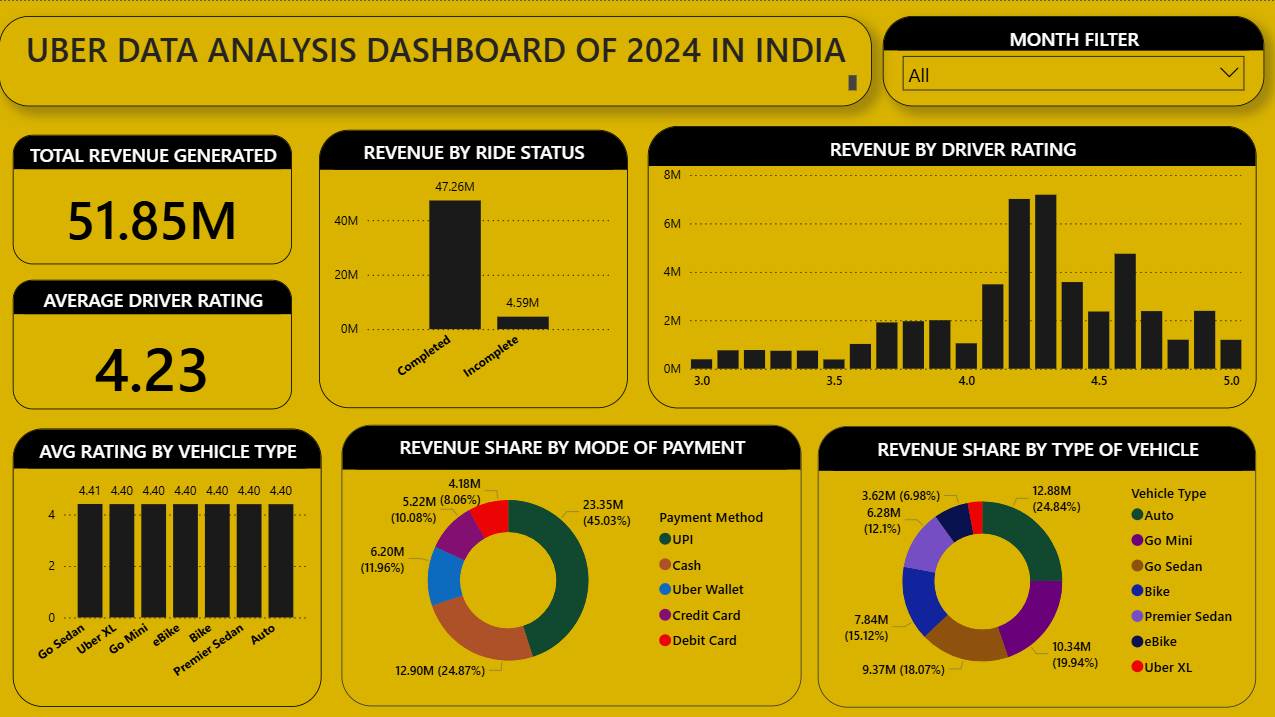

The dashboard page shown, as its layout file describes it:
{"tool":"powerbi","page":{"name":"Page 1","canvas":[1280,720],"ordinal":0},"visuals":[{"type":"cardVisual","title":"TOTAL REVENUE GENERATED ","fields":{"Data":["Sum(ncr_ride_bookings.Booking Value)"]},"box":[13.3,129.4,279.2,129.4],"z":0},{"type":"donutChart","title":"REVENUE SHARE BY MODE OF PAYMENT","fields":{"Category":["ncr_ride_bookings.Payment Method"],"Y":["Sum(ncr_ride_bookings.Booking Value)"]},"box":[342.5,423.8,460,281.2],"z":1000},{"type":"donutChart","title":"REVENUE SHARE BY TYPE  OF VEHICLE","fields":{"Y":["Sum(ncr_ride_bookings.Booking Value)"],"Category":["ncr_ride_bookings.Vehicle Type"]},"box":[818.8,425,438.8,281.2],"z":2000},{"type":"slicer","title":"MONTH FILTER","fields":{"Values":["ncr_ride_bookings.Date.Variation.Date Hierarchy.Month"]},"box":[896.5,15.1,360.5,89.5],"z":3000},{"type":"cardVisual","title":"AVERAGE DRIVER RATING","fields":{"Data":["Avg(ncr_ride_bookings.Driver Ratings)"]},"box":[13.2,278.2,279.5,129.2],"z":4000},{"type":"columnChart","title":"REVENUE BY RIDE STATUS","fields":{"Category":["ncr_ride_bookings.Booking Status"],"Y":["Sum(ncr_ride_bookings.Booking Value)"]},"box":[320.4,129.2,308.5,278.2],"z":5000},{"type":"columnChart","title":"AVG RATING BY VEHICLE TYPE","fields":{"Category":["ncr_ride_bookings.Vehicle Type"],"Y":["Avg(ncr_ride_bookings.Customer Rating)"]},"box":[13.8,427.5,308.8,278.8],"z":6000},{"type":"textbox","title":"UBER DATA ANALYSIS DASHBOARD OF  2024 IN INDIA","box":[14,15.1,865.1,89.5],"z":7000},{"type":"columnChart","title":"REVENUE BY DRIVER RATING","fields":{"Y":["Sum(ncr_ride_bookings.Booking Value)"],"Category":["ncr_ride_bookings.Driver Ratings"]},"box":[648.8,125,608.8,282.5],"z":8000}]}

Visuals, with their boxes in screenshot pixels (x1, y1, x2, y2), scaled from the page's 1280x720 canvas onto the 1275x717 screenshot:
"TOTAL REVENUE GENERATED " cardVisual: <bbox>13, 129, 291, 258</bbox>
"REVENUE SHARE BY MODE OF PAYMENT" donutChart: <bbox>341, 422, 799, 702</bbox>
"REVENUE SHARE BY TYPE  OF VEHICLE" donutChart: <bbox>816, 423, 1253, 703</bbox>
"MONTH FILTER" slicer: <bbox>893, 15, 1252, 104</bbox>
"AVERAGE DRIVER RATING" cardVisual: <bbox>13, 277, 292, 406</bbox>
"REVENUE BY RIDE STATUS" columnChart: <bbox>319, 129, 626, 406</bbox>
"AVG RATING BY VEHICLE TYPE" columnChart: <bbox>14, 426, 321, 703</bbox>
"UBER DATA ANALYSIS DASHBOARD OF  2024 IN INDIA" textbox: <bbox>14, 15, 876, 104</bbox>
"REVENUE BY DRIVER RATING" columnChart: <bbox>646, 124, 1253, 406</bbox>
